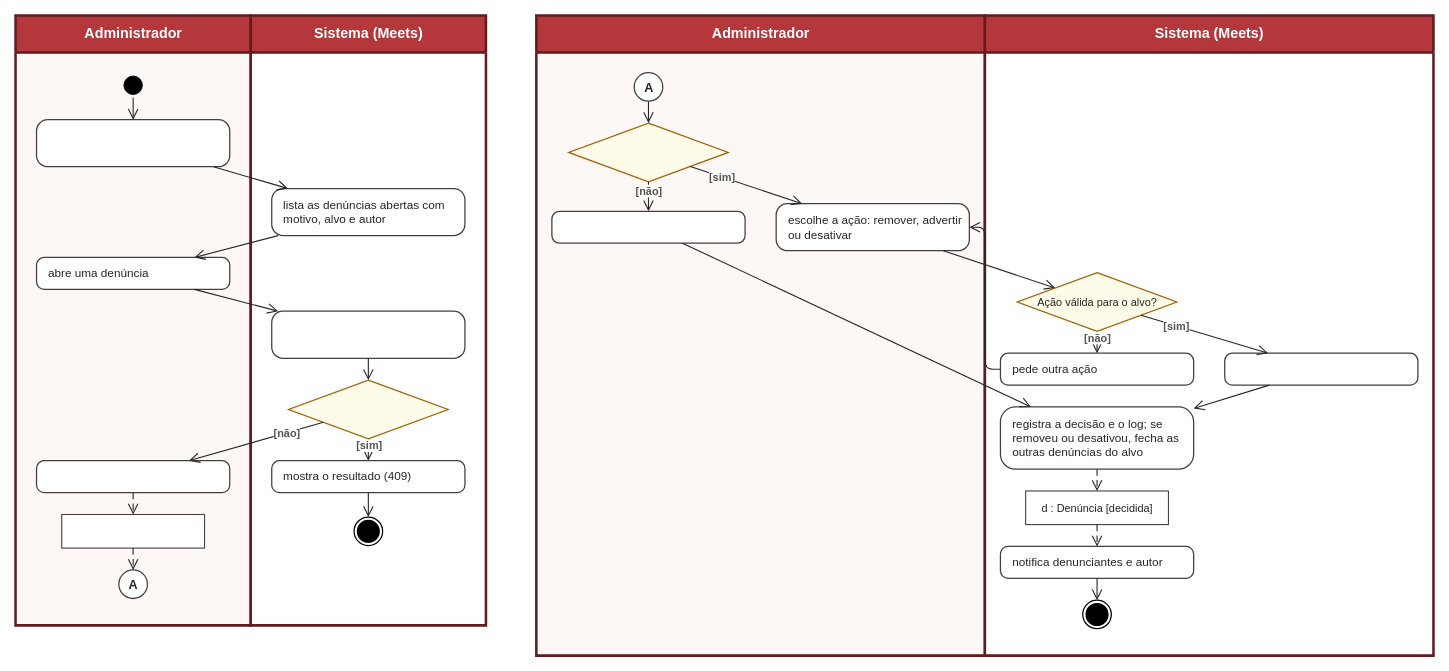
The diagram is 1449 pixels wide and 671 high, and some of its shapes have lost their labels. The shapes that lost their labels are listed below. From the top down, each one's centre as x and y in pixels, then its label:
At (x=133, y=143): "abre “Denúncias” (ou a notificação de nova denúncia)".
At (x=648, y=152): "Procedente?".
At (x=648, y=226): "marca Improcedente".
At (x=368, y=334): "mostra detalhes, conteúdo atual e outras denúncias do alvo".
At (x=1321, y=368): "executa a ação (moderation)".
At (x=368, y=409): "Já decidida?".
At (x=133, y=476): "inicia a análise (Em análise)".
At (x=133, y=531): "d : Denúncia [em análise]".
